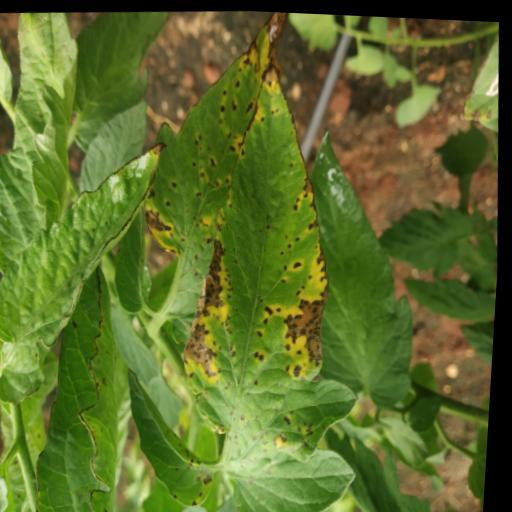Early Blight: (162, 43, 382, 512), (127, 5, 305, 324), (126, 363, 229, 512)
